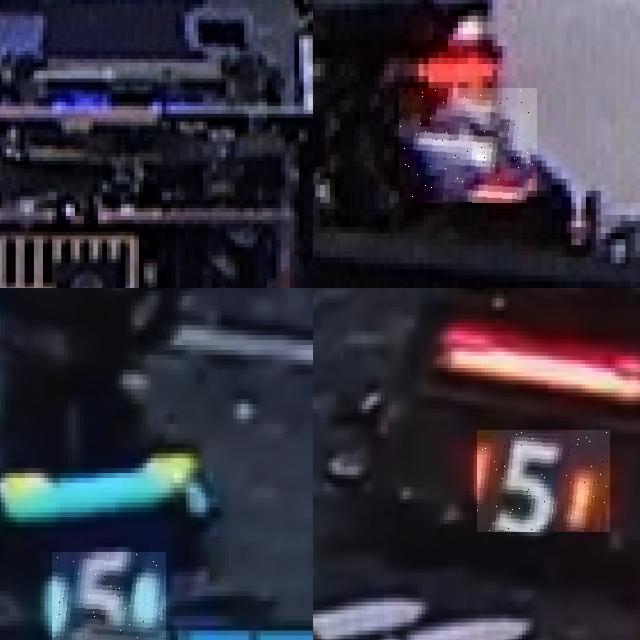B5: (52, 551, 166, 640)
R4: (399, 88, 537, 203)
R5: (478, 430, 612, 532)
